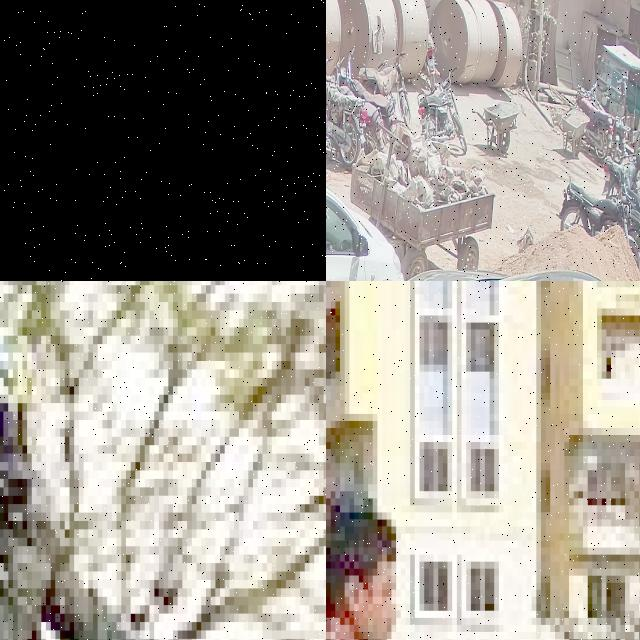bike: (0, 114, 191, 281), (0, 546, 326, 640), (339, 48, 396, 133), (556, 174, 629, 238), (326, 57, 367, 169), (335, 57, 383, 151), (356, 52, 412, 130), (418, 66, 468, 152), (575, 86, 613, 164), (602, 148, 640, 202), (626, 181, 640, 231)
car: (326, 141, 403, 281)
